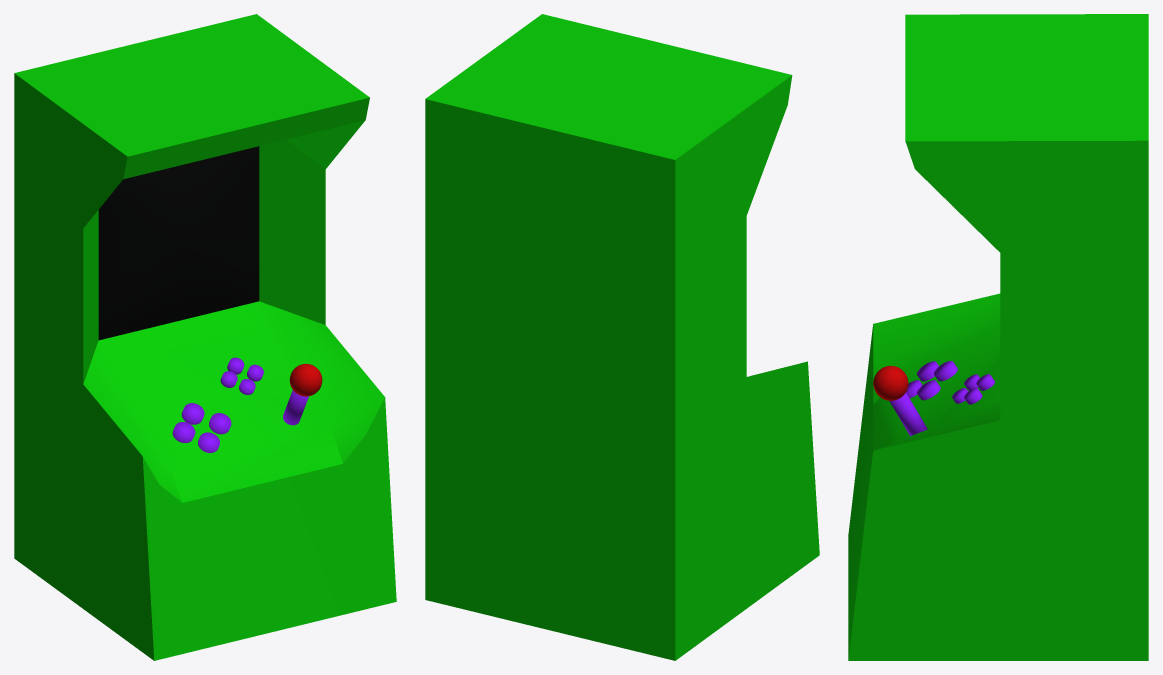
The model's file is arcade3.obj.
3 views of the same model, side by side, from view 1: azimuth 30°, elevation 25°; view 2: azimuth 150°, elevation 25°; view 3: azimuth 270°, elevation 25° (orthographic). The views are drawn at different scales.
Parts seen in each view (by area): view 1: Cube.002, Sphere.001; view 2: Cube.002; view 3: Cube.002, Sphere.001.
Boxes of the visible parts, x1,y1,x2,y2 form: Cube.002: [14, 14, 396, 660]; Sphere.001: [172, 357, 322, 452]; Cube.002: [425, 14, 819, 660]; Cube.002: [848, 14, 1148, 660]; Sphere.001: [873, 361, 994, 436].
Bounding box in the file's own units: 1.05 × 2 × 1.05.
